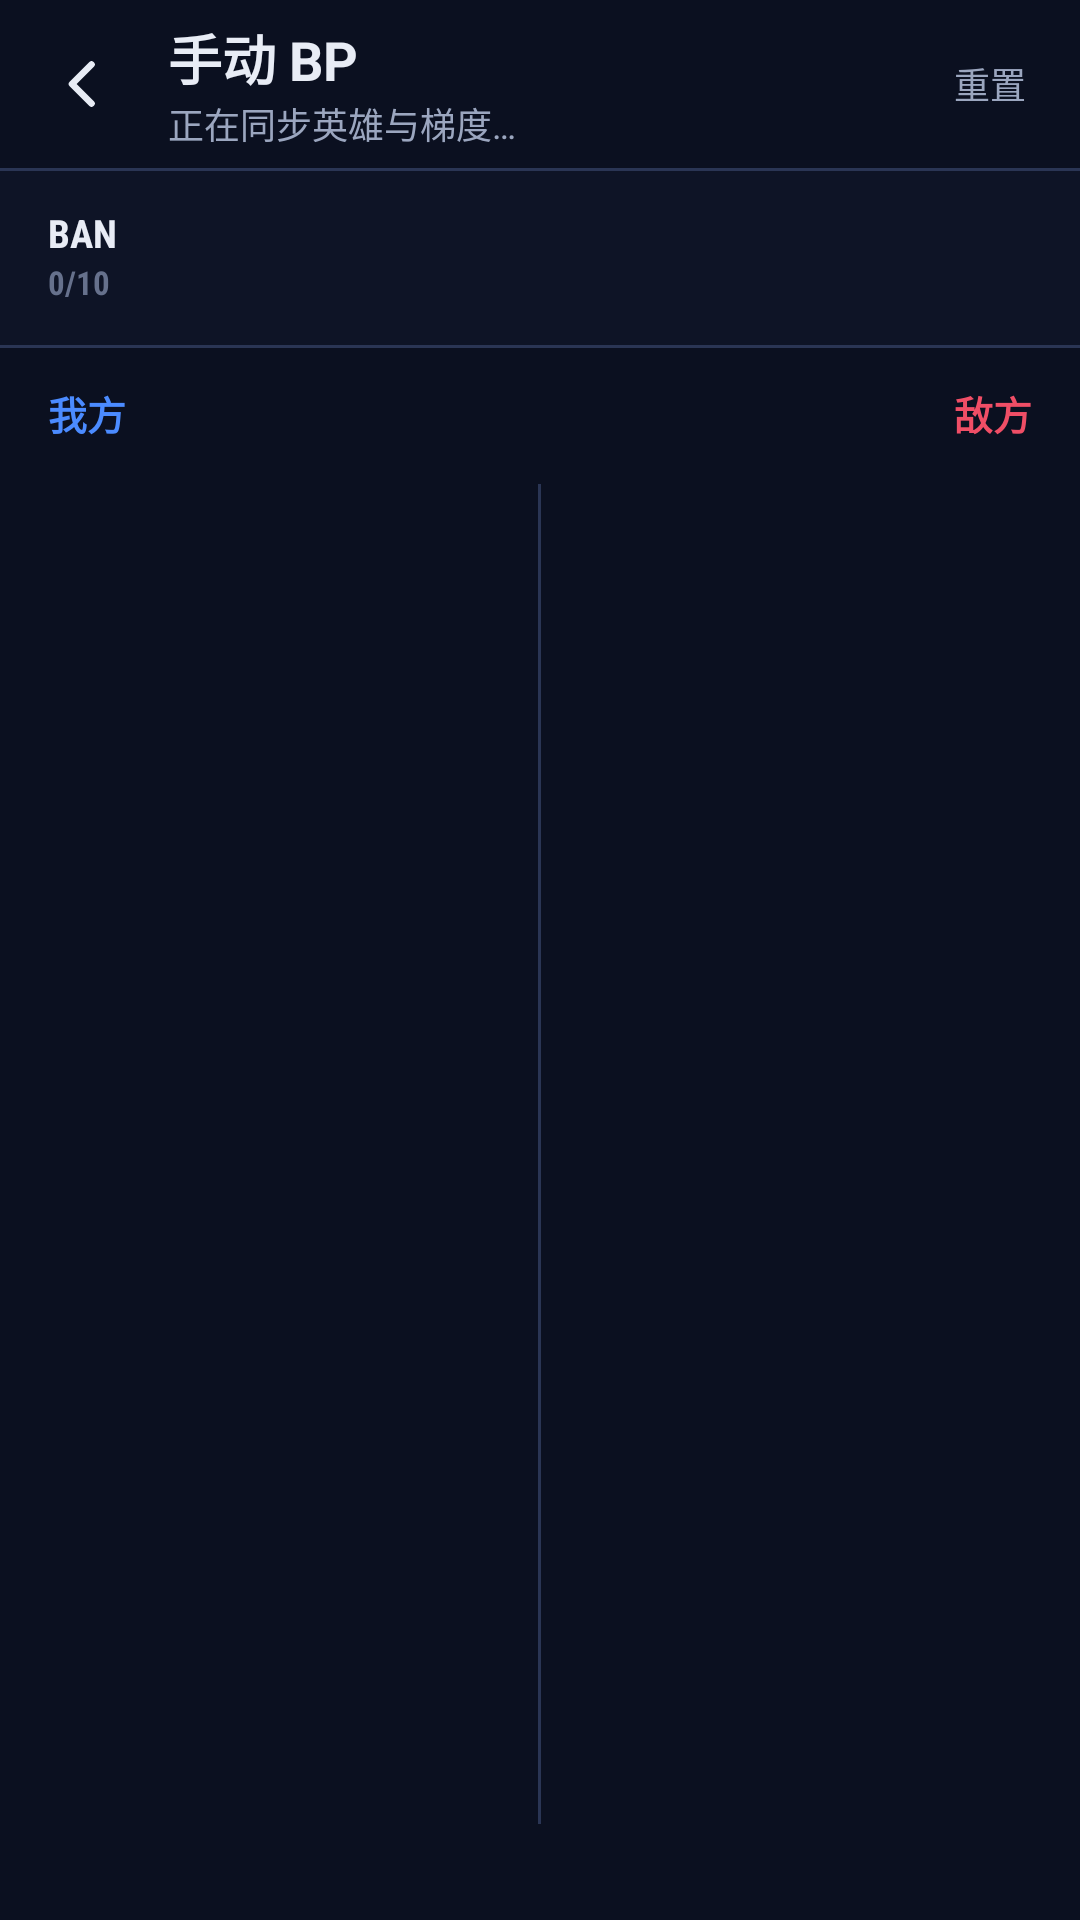

Icons on this 1080px x 1920px Android screen, each with its box as (x1=x1, y1=y1, x2=x2, y2=y2):
返回: (x1=68, y1=61, x2=95, y2=107)
